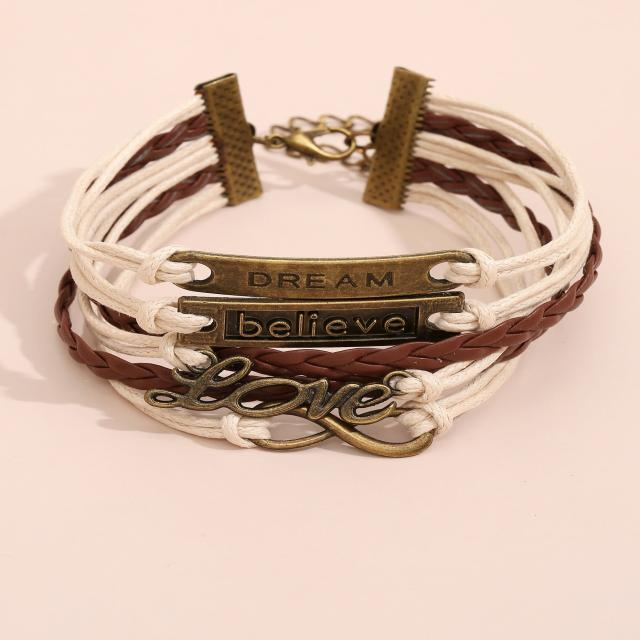bracelet: (22, 49, 640, 512)
